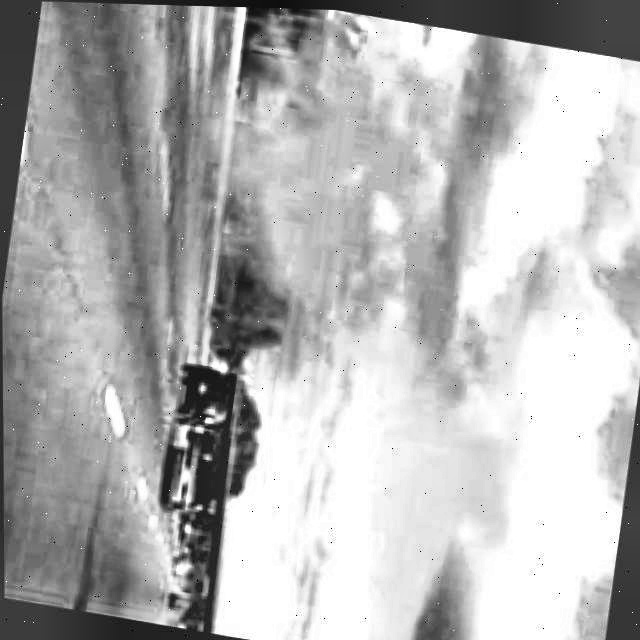Smoke: (96, 2, 557, 454)
